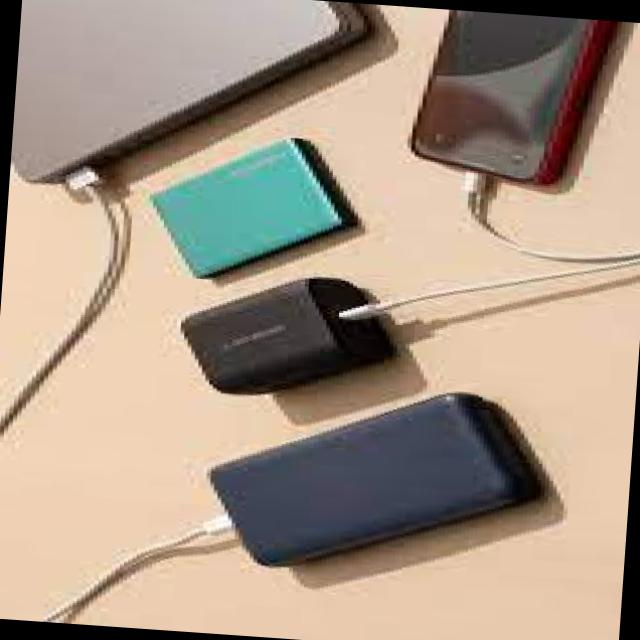power_bank: (195, 366, 568, 591), (140, 124, 374, 295)
